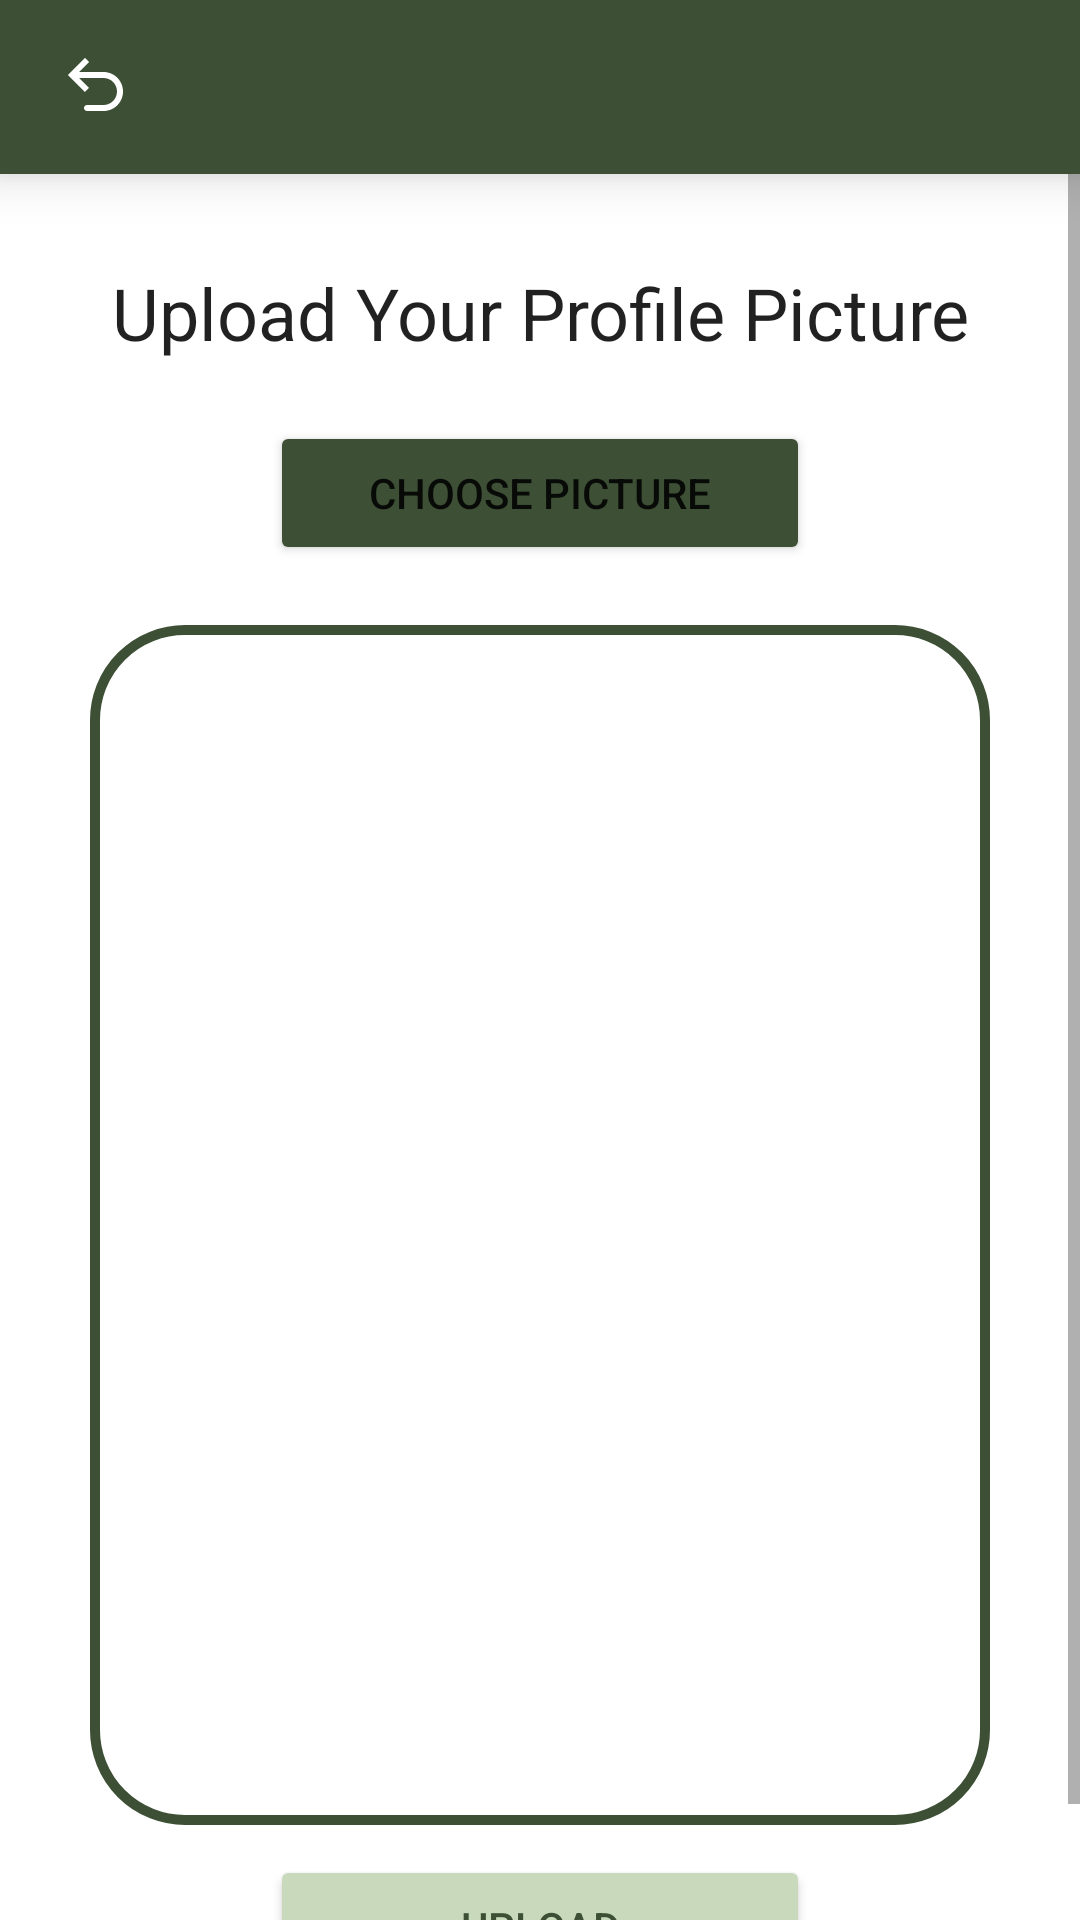

Screen size 1080w x 1920h. Icon name, then its center in pixels as (x,y):
back: (95,84)
